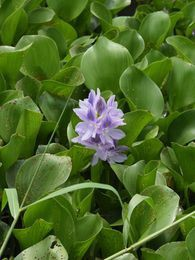water_hyacinth: (1, 1, 194, 260)
